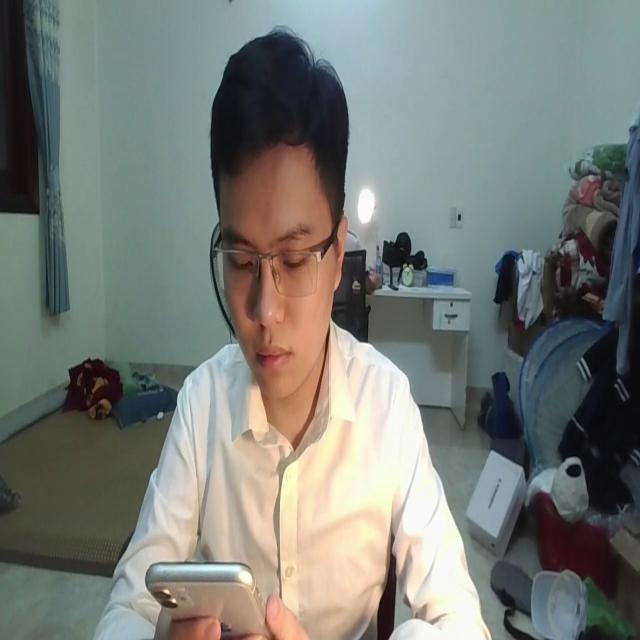phone: (144, 547, 276, 632)
student: (92, 24, 490, 640)
